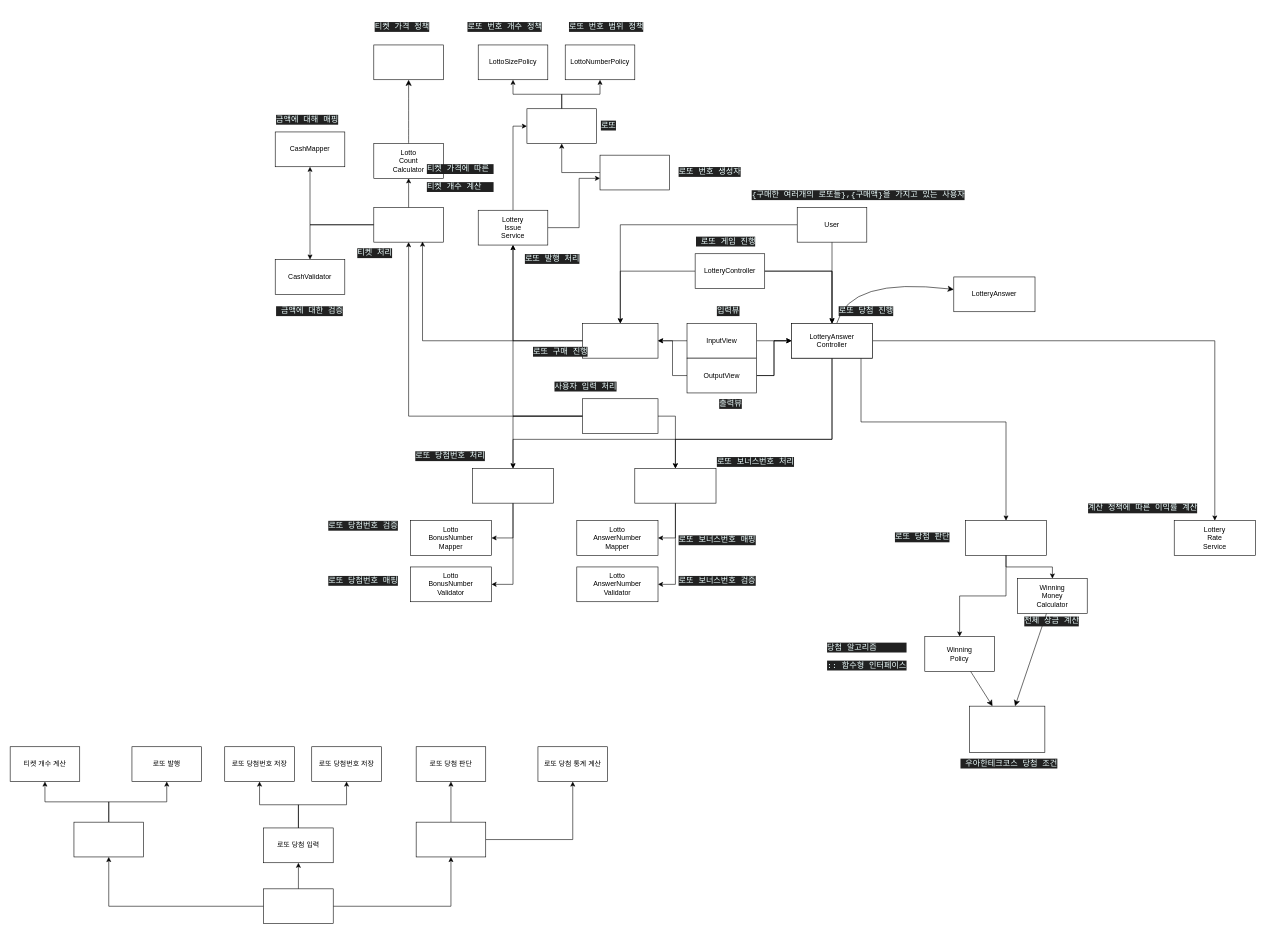
This 1266x934 diagram has some shape labels left out. The box of each missing label's shape, as (x1, y1, x2, y2) in pixels:
CashPolicy: (373, 44, 443, 80)
Lottery AnswerCheck Service: (965, 520, 1047, 555)
Lottery AnswerNumber Service: (634, 468, 716, 503)
Lottery BonusNumber Service: (472, 468, 554, 503)
Lottery Count Service: (373, 207, 443, 242)
LotteryPurchase Controller: (582, 323, 658, 358)
Lotto: (526, 108, 597, 144)
LottoIssuer: (599, 155, 670, 190)
UserInput: (582, 398, 658, 434)
Winning Policy Condition <<E>>: (969, 706, 1045, 753)
로또 게임: (263, 888, 333, 924)
로또 구매: (73, 822, 144, 857)
로또 당첨 결과: (416, 822, 486, 857)
